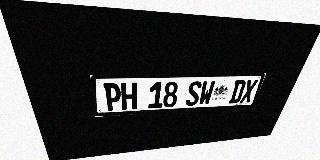1: (148, 82, 164, 108)
8: (163, 82, 179, 107)
D: (228, 80, 247, 103)
H: (121, 83, 137, 110)
P: (103, 83, 121, 111)
S: (185, 81, 202, 106)
W: (198, 81, 216, 105)
X: (240, 80, 258, 103)
